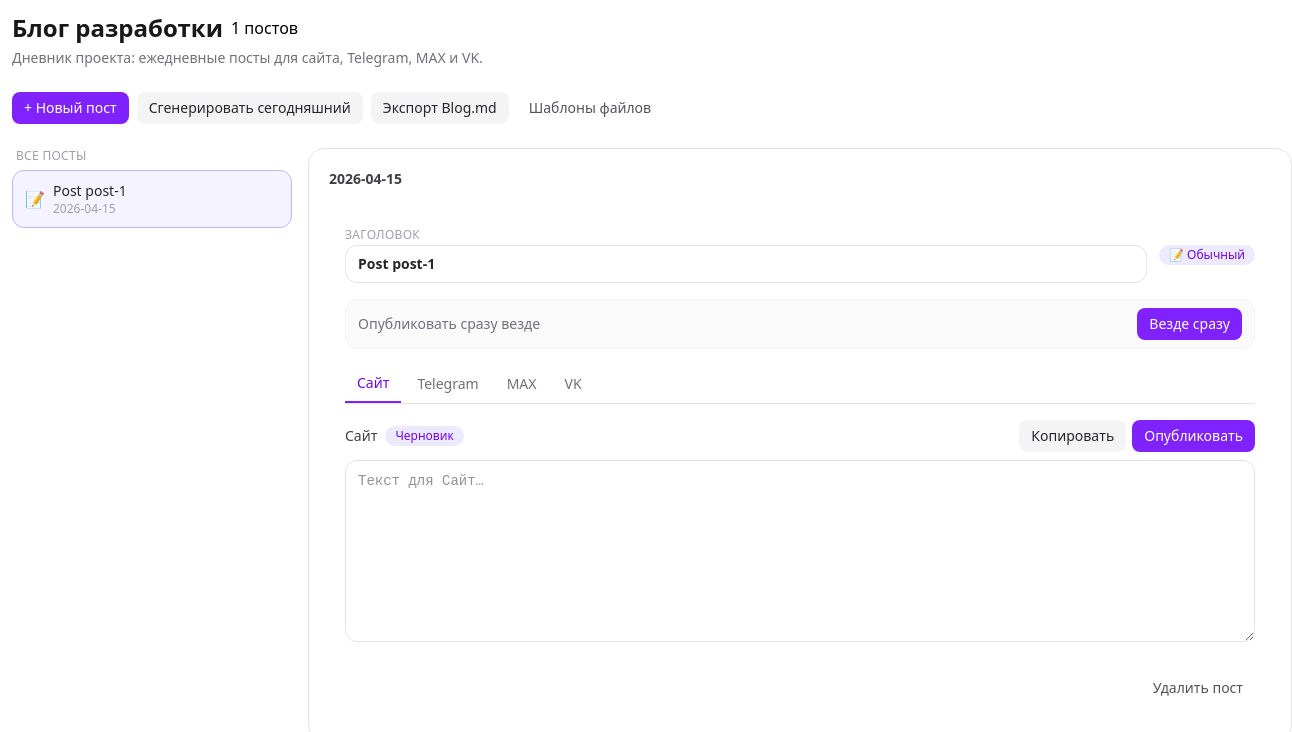
Test case: D. Delete — removing a post › deleting the only post returns to "Постов ещё нет" empty state
Check: the text "Постов ещё нет" is not shown
Click the button "Удалить пост" at (1198, 688), box [1141, 672, 1255, 704]
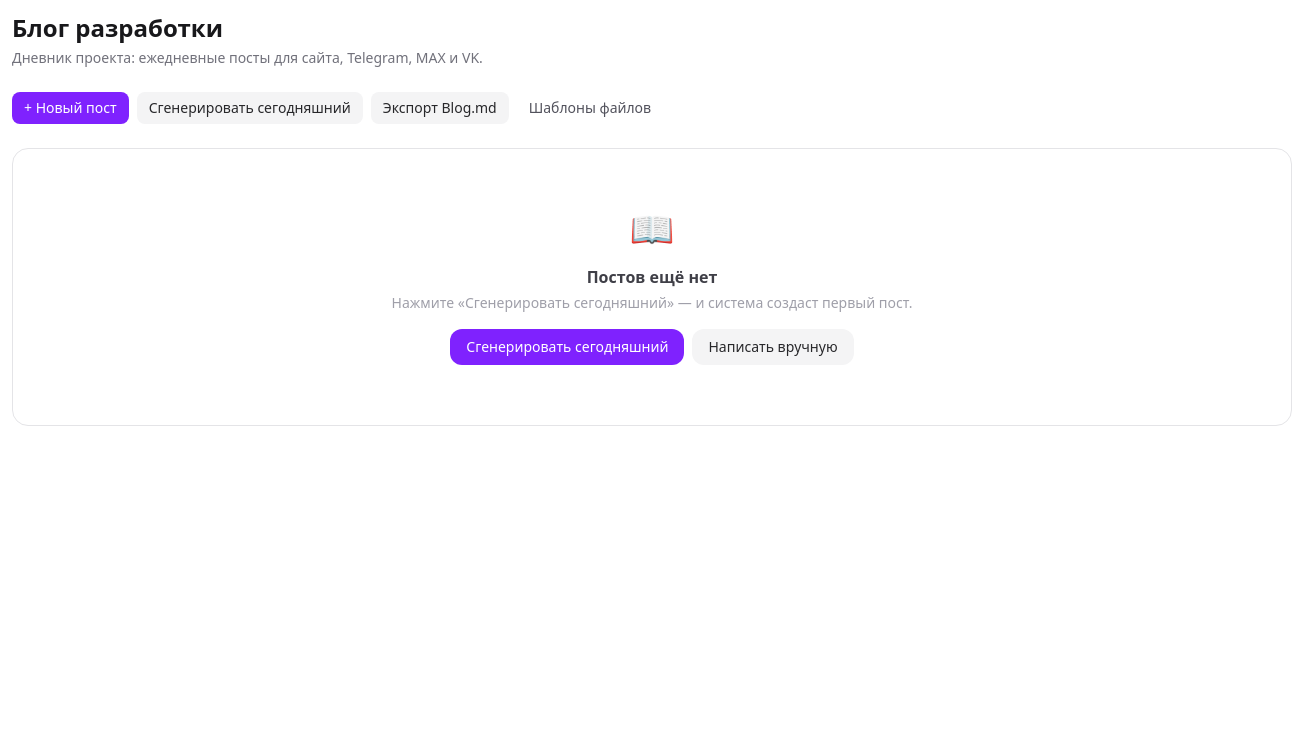
Check: the text "Постов ещё нет" is shown, box [587, 266, 717, 288]
